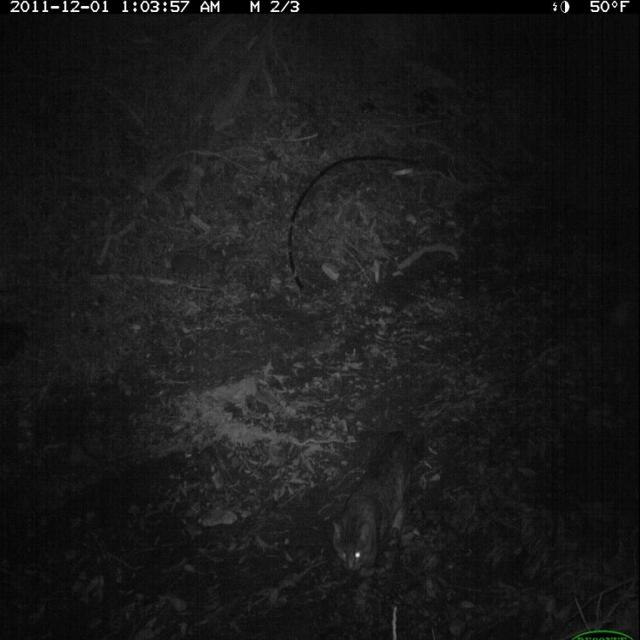cat: (324, 421, 416, 635)
